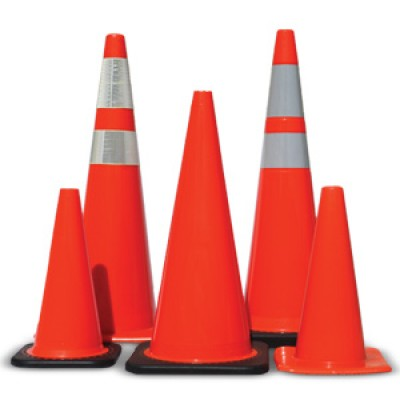orangeC: (121, 82, 281, 380), (65, 28, 167, 351), (283, 179, 400, 382)
